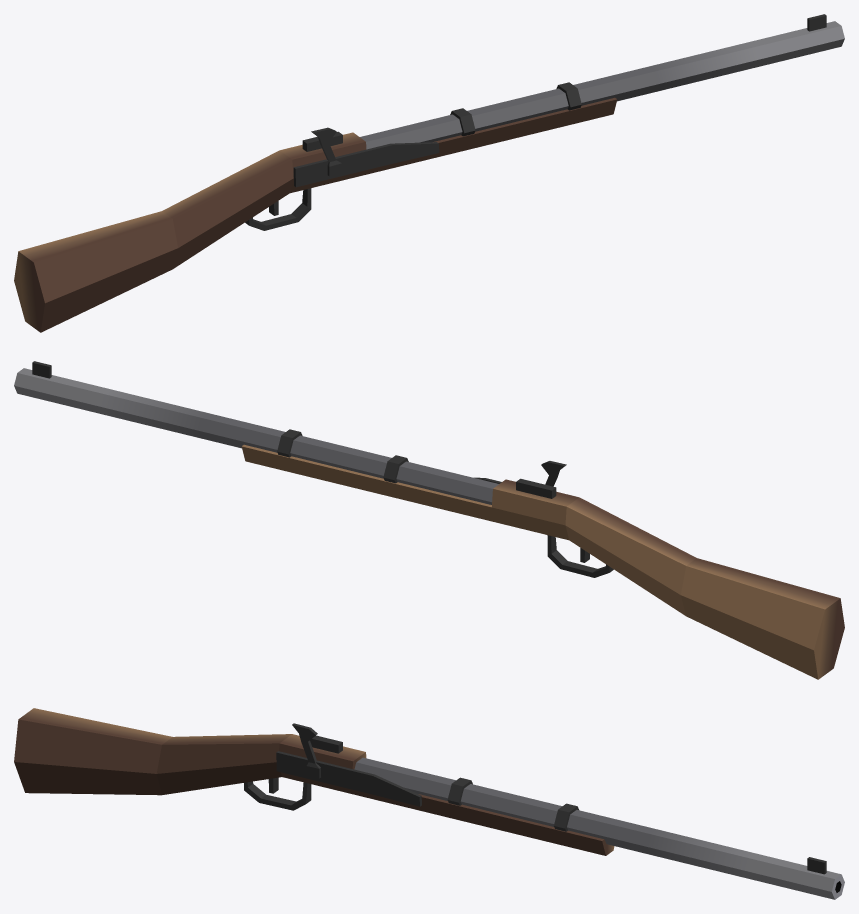
File: Shotgun 2.glb
3 renders of one model, top to bottom at view 1: azimuth 30°, elevation 25°; view 2: azimuth 150°, elevation 25°; view 3: azimuth 330°, elevation 25°, orthographic.
Visible parts, largest first — view 1: Shotgun2; view 2: Shotgun2; view 3: Shotgun2.
Boxes of the visible parts, x1,y1,x2,y2 form: Shotgun2: (14, 14, 844, 332); Shotgun2: (14, 361, 844, 679); Shotgun2: (14, 708, 844, 899).
Size of what is drawn, in the model's own units: 1.56 by 0.2494 by 0.1031.
Materials: 1 (1 with a texture image).
